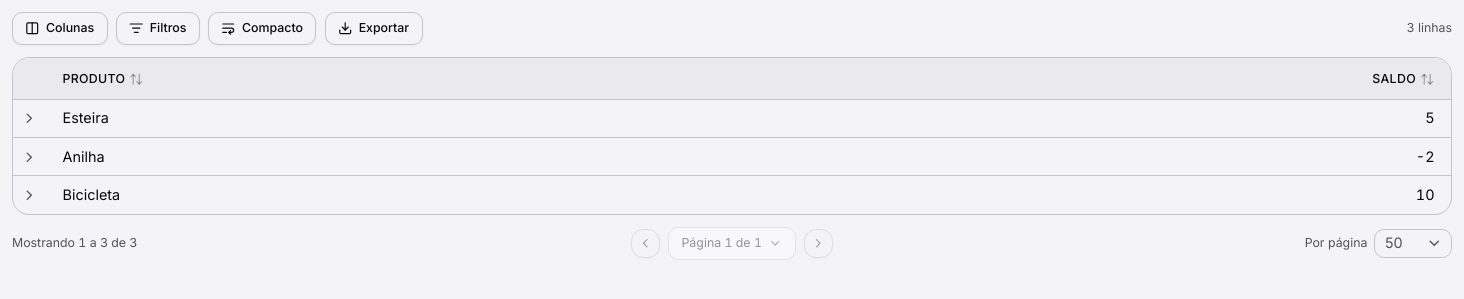
it: DataTable linhas expansíveis (c3) › segundo clique na mesma linha fecha o detalhe
Click the row "Esteira 5" at (732, 119), box [13,100,1451,138]
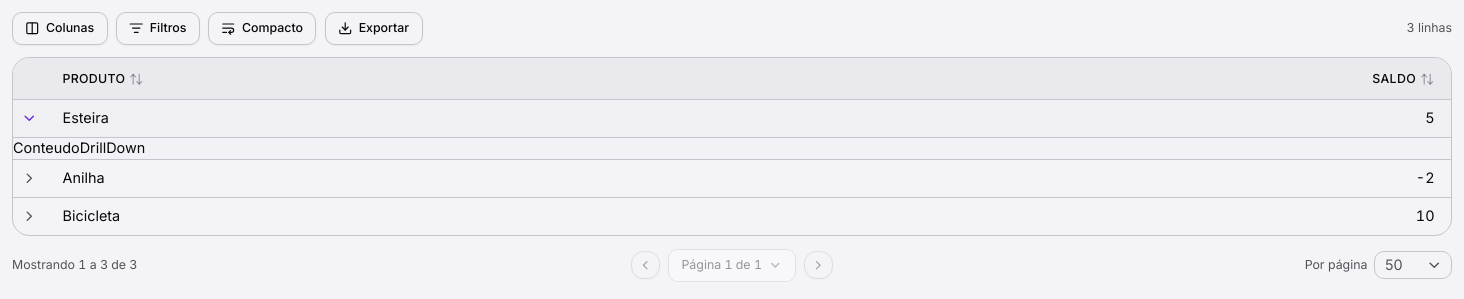
Click the row "Esteira 5" at (732, 119), box [13,100,1451,138]
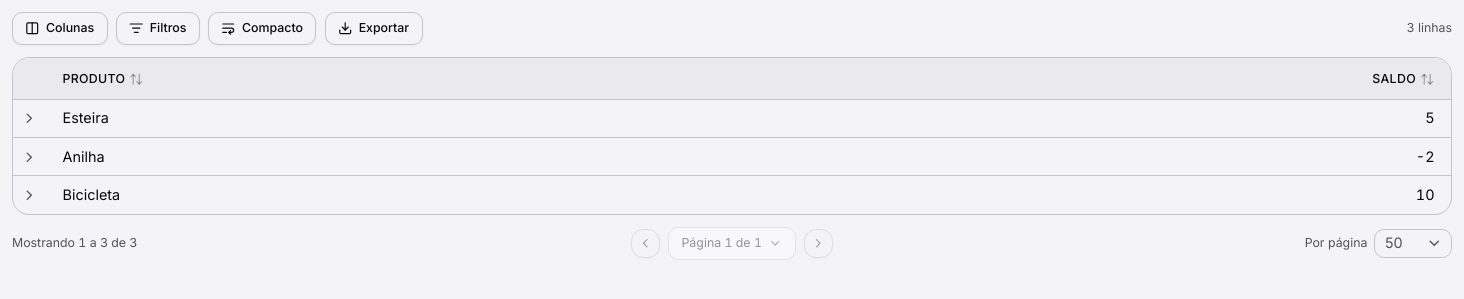
Result: the row "Esteira 5" is collapsed at [13,100,1451,138]
Result: the text "ConteudoDrillDown" is gone
